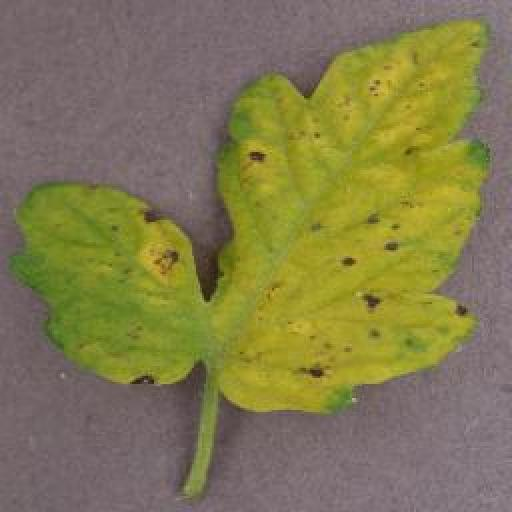Septoria: (12, 16, 491, 411)
